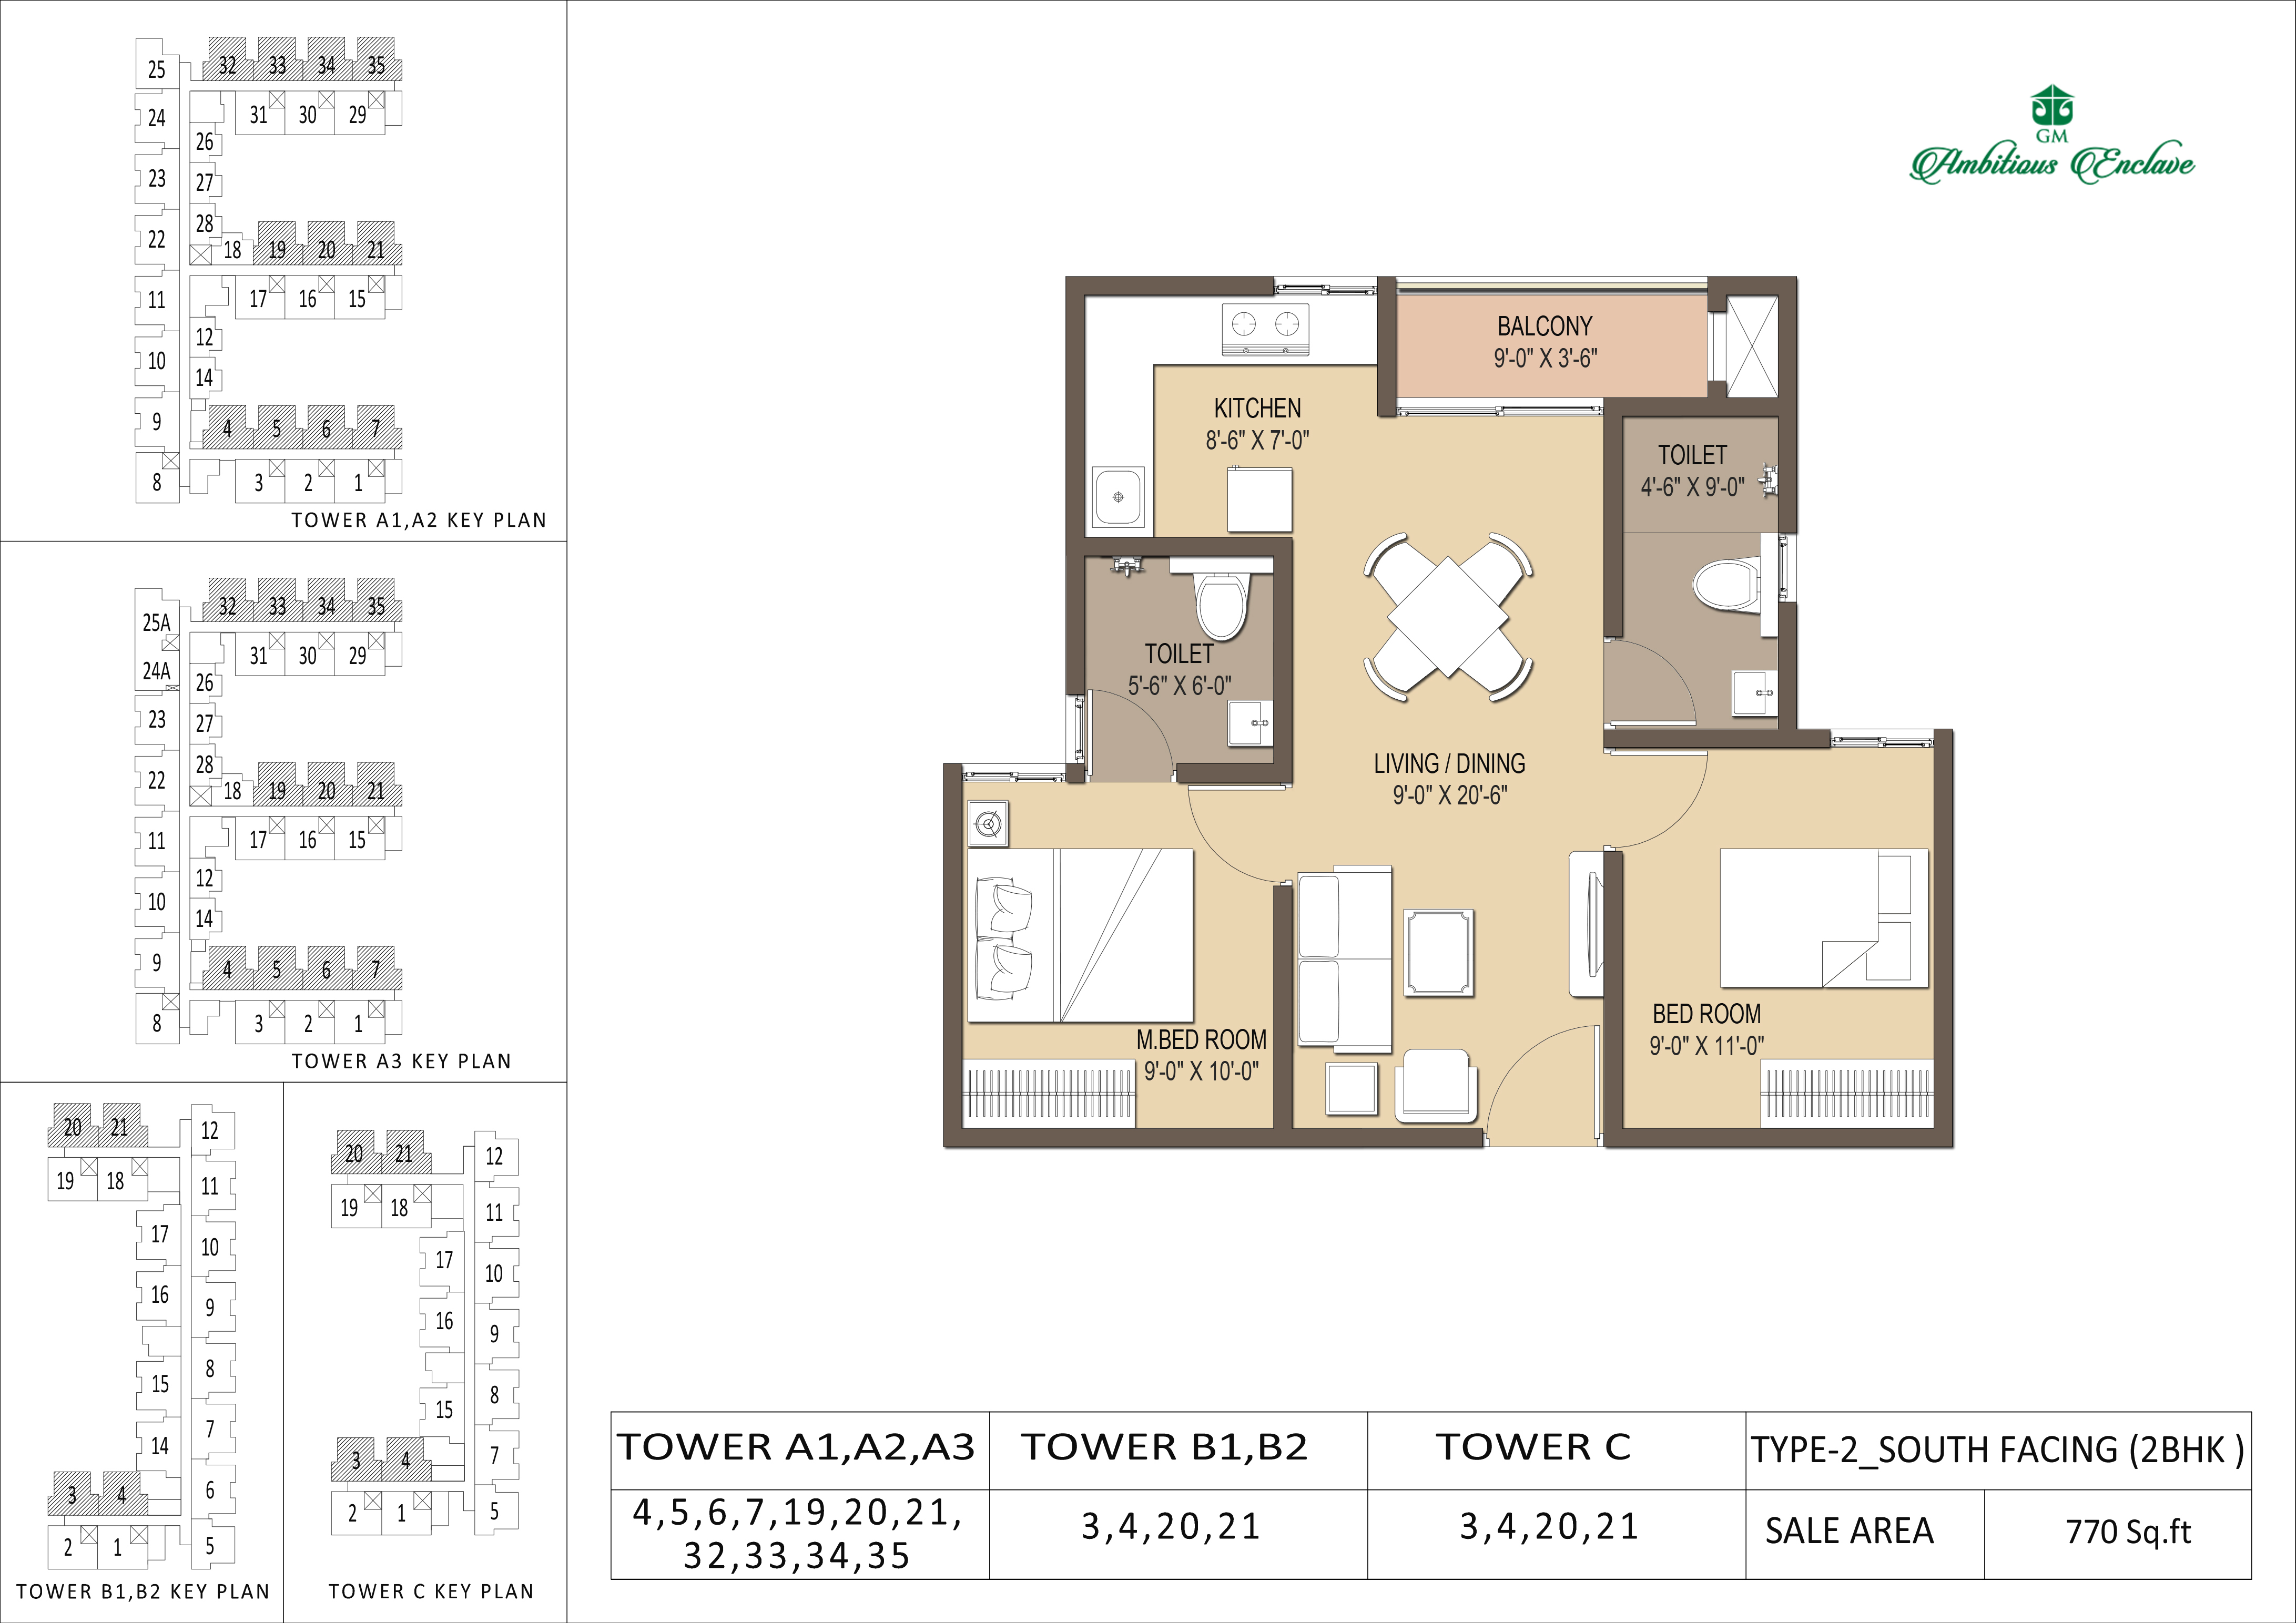window: (1395, 395, 1606, 418), (1829, 727, 1936, 750), (963, 762, 1068, 785), (1272, 276, 1379, 297), (1065, 692, 1086, 766)
